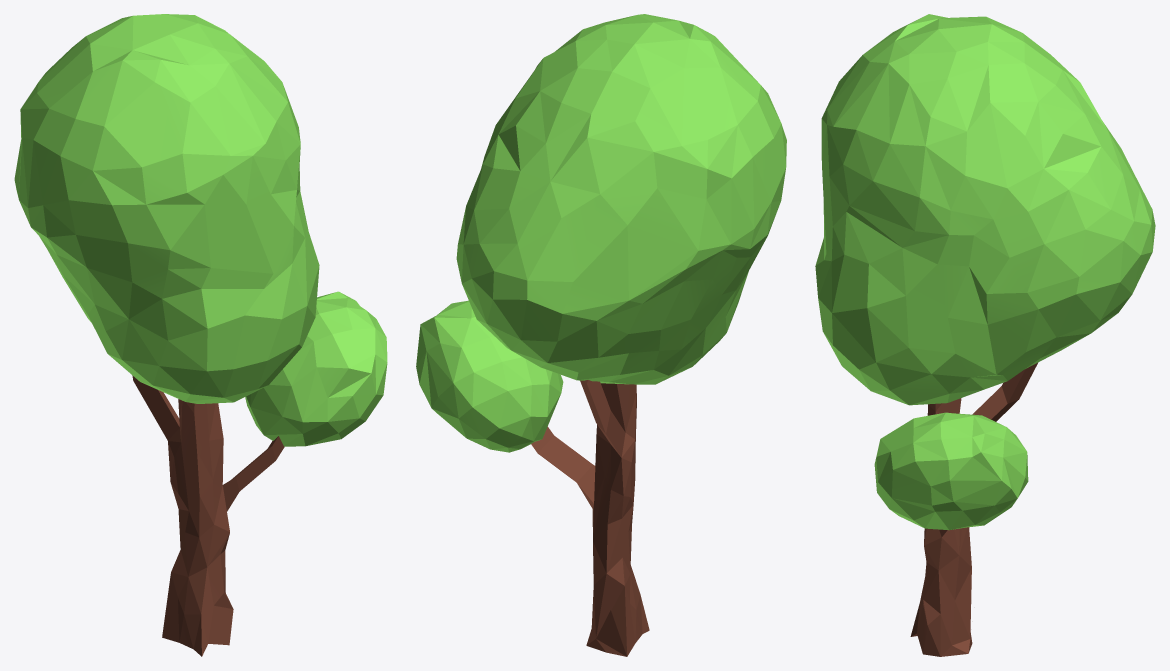
File: TreeGreen01.fbx
3 views of the same model, side by side, from view 1: azimuth 30°, elevation 25°; view 2: azimuth 150°, elevation 25°; view 3: azimuth 270°, elevation 25° (orthographic). The views are drawn at different scales.
Parts seen in each view (by area): view 1: TreeGreen01; view 2: TreeGreen01; view 3: TreeGreen01.
Part boxes in pixels (x1,y1,x2,y2): TreeGreen01: [14, 14, 387, 656]; TreeGreen01: [416, 14, 786, 656]; TreeGreen01: [815, 14, 1155, 656].
Bounding box in the file's own units: 1409 × 2467 × 1265.
